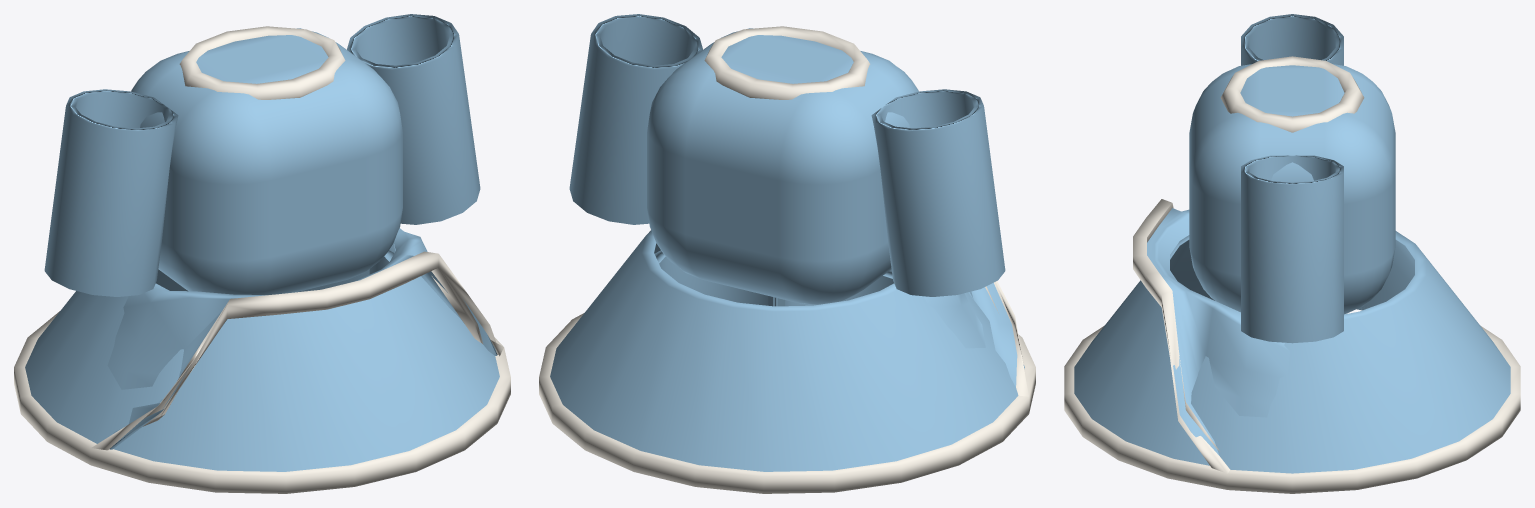
Rendered from bunny_dress.glb.
The picture shows the model from 3 angles, left to right: view 1: azimuth 30°, elevation 25°; view 2: azimuth 150°, elevation 25°; view 3: azimuth 270°, elevation 25°; orthographic projection. The views are drawn at different scales.
Parts seen in each view (by area): view 1: bunny_dress_Body, bunny_dress_Body_sit, bunny_dress_ArmL, bunny_dress_ArmR; view 2: bunny_dress_Body, bunny_dress_ArmL, bunny_dress_ArmR, bunny_dress_Body_sit, bunny_dress_LegR_sit, bunny_dress_LegL_sit; view 3: bunny_dress_Body, bunny_dress_ArmR, bunny_dress_Body_sit, bunny_dress_ArmL.
Part boxes in pixels (bbox=[...]): bunny_dress_Body: bbox=[14, 26, 510, 493]; bunny_dress_Body_sit: bbox=[91, 58, 503, 450]; bunny_dress_ArmL: bbox=[44, 89, 178, 296]; bunny_dress_ArmR: bbox=[347, 14, 480, 224]; bunny_dress_Body: bbox=[539, 26, 1035, 493]; bunny_dress_ArmL: bbox=[871, 89, 1005, 296]; bunny_dress_ArmR: bbox=[569, 14, 702, 224]; bunny_dress_Body_sit: bbox=[647, 57, 1028, 396]; bunny_dress_LegR_sit: bbox=[654, 250, 777, 306]; bunny_dress_LegL_sit: bbox=[773, 271, 893, 306]; bunny_dress_Body: bbox=[1064, 56, 1520, 493]; bunny_dress_ArmR: bbox=[1241, 155, 1343, 343]; bunny_dress_Body_sit: bbox=[1133, 115, 1414, 473]; bunny_dress_ArmL: bbox=[1241, 14, 1343, 65].
Size of the model in its own units: 0.648 by 0.5289 by 0.6414.
